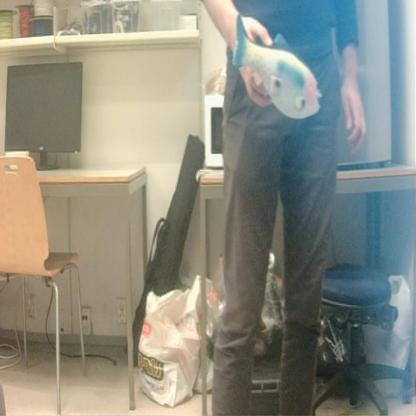rubberfish: (228, 6, 323, 122)
